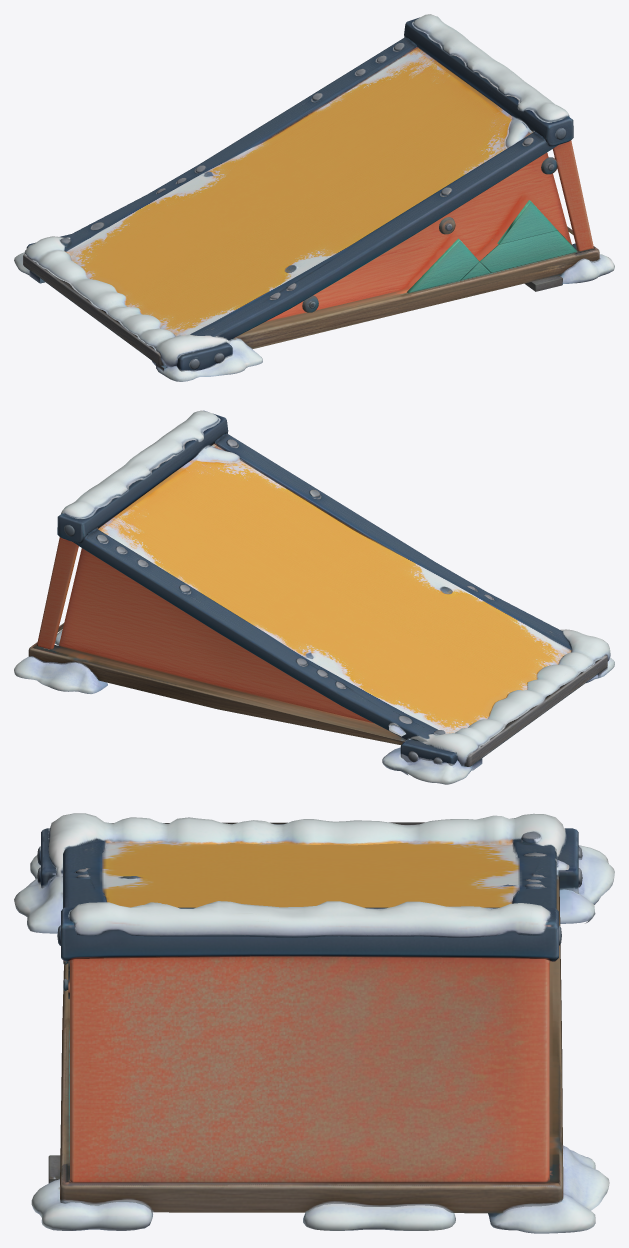
File: snow-ramp.glb
3 views of the same model, one above another, from view 1: azimuth 30°, elevation 25°; view 2: azimuth 150°, elevation 25°; view 3: azimuth 270°, elevation 25° (orthographic). The views are drawn at different scales.
Visible parts, largest first — view 1: tripo_808034d2_4f6f_45d6_b9eb_4ca1d1bbb635; view 2: tripo_808034d2_4f6f_45d6_b9eb_4ca1d1bbb635; view 3: tripo_808034d2_4f6f_45d6_b9eb_4ca1d1bbb635.
Part boxes in pixels (bbox=[...]): tripo_808034d2_4f6f_45d6_b9eb_4ca1d1bbb635: bbox=[14, 14, 614, 381]; tripo_808034d2_4f6f_45d6_b9eb_4ca1d1bbb635: bbox=[14, 410, 614, 784]; tripo_808034d2_4f6f_45d6_b9eb_4ca1d1bbb635: bbox=[14, 813, 614, 1233].
Bounding box in the file's own units: 0.9995 × 0.3608 × 0.6704.
1 material, 1 textured.
